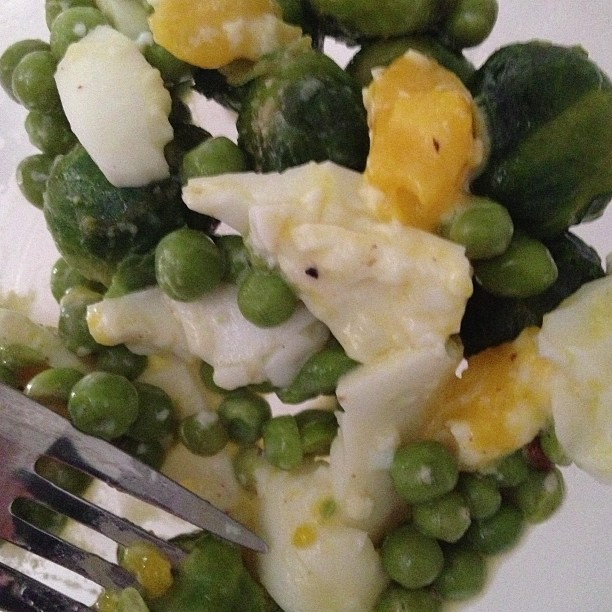boiled peas: (52, 363, 339, 464), (386, 454, 544, 612), (112, 509, 247, 612), (17, 1, 87, 197), (456, 206, 555, 297), (148, 221, 229, 300), (170, 132, 250, 181), (427, 1, 495, 47), (234, 272, 290, 317)
